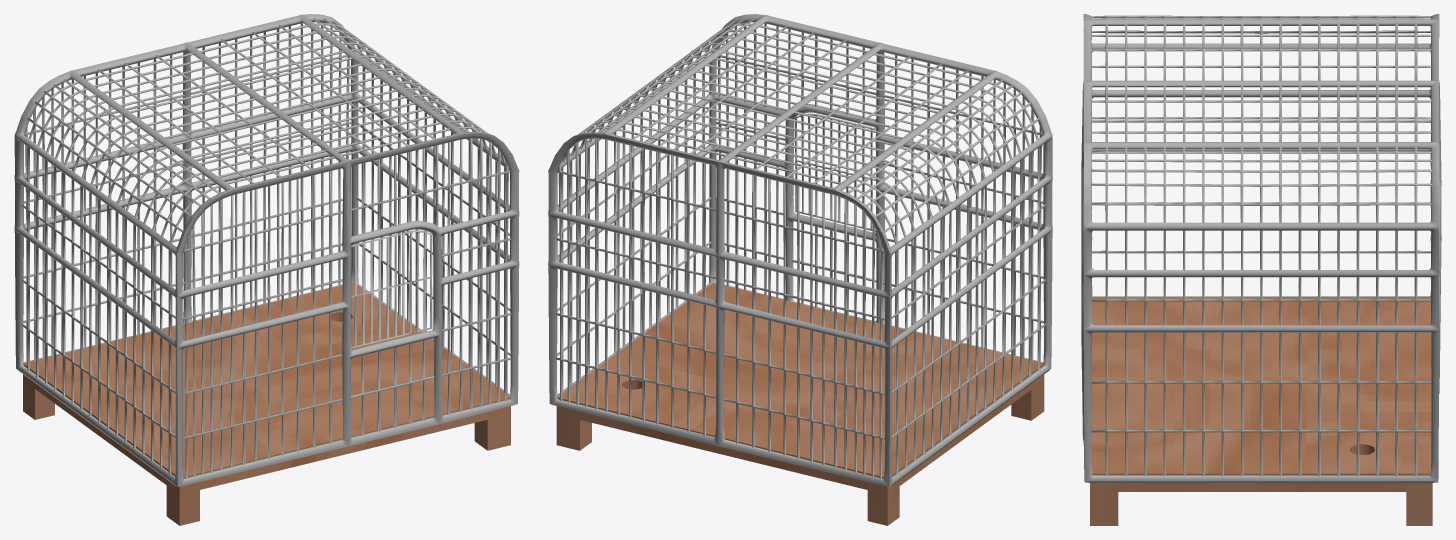
Rendered from Mdl_Cage.fbx.
3 renders of one model, left to right at view 1: azimuth 30°, elevation 25°; view 2: azimuth 150°, elevation 25°; view 3: azimuth 270°, elevation 25°, orthographic. The views are drawn at different scales.
Parts seen in each view (by area): view 1: cage, door; view 2: cage, door; view 3: cage.
Part boxes in pixels (x1,y1,x2,y2): cage: [14, 14, 519, 525]; door: [351, 230, 432, 348]; cage: [548, 14, 1052, 525]; door: [794, 113, 875, 231]; cage: [1081, 14, 1441, 525].
Size of the model in its own units: 274 by 249 by 228.
2 materials, 1 textured.
